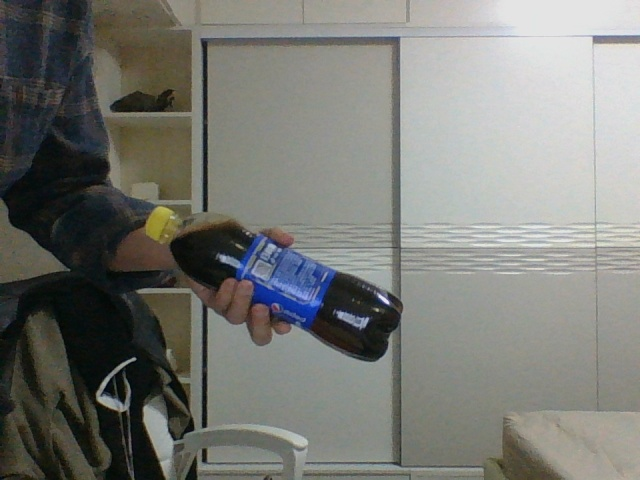Cola: (143, 206, 403, 362)
